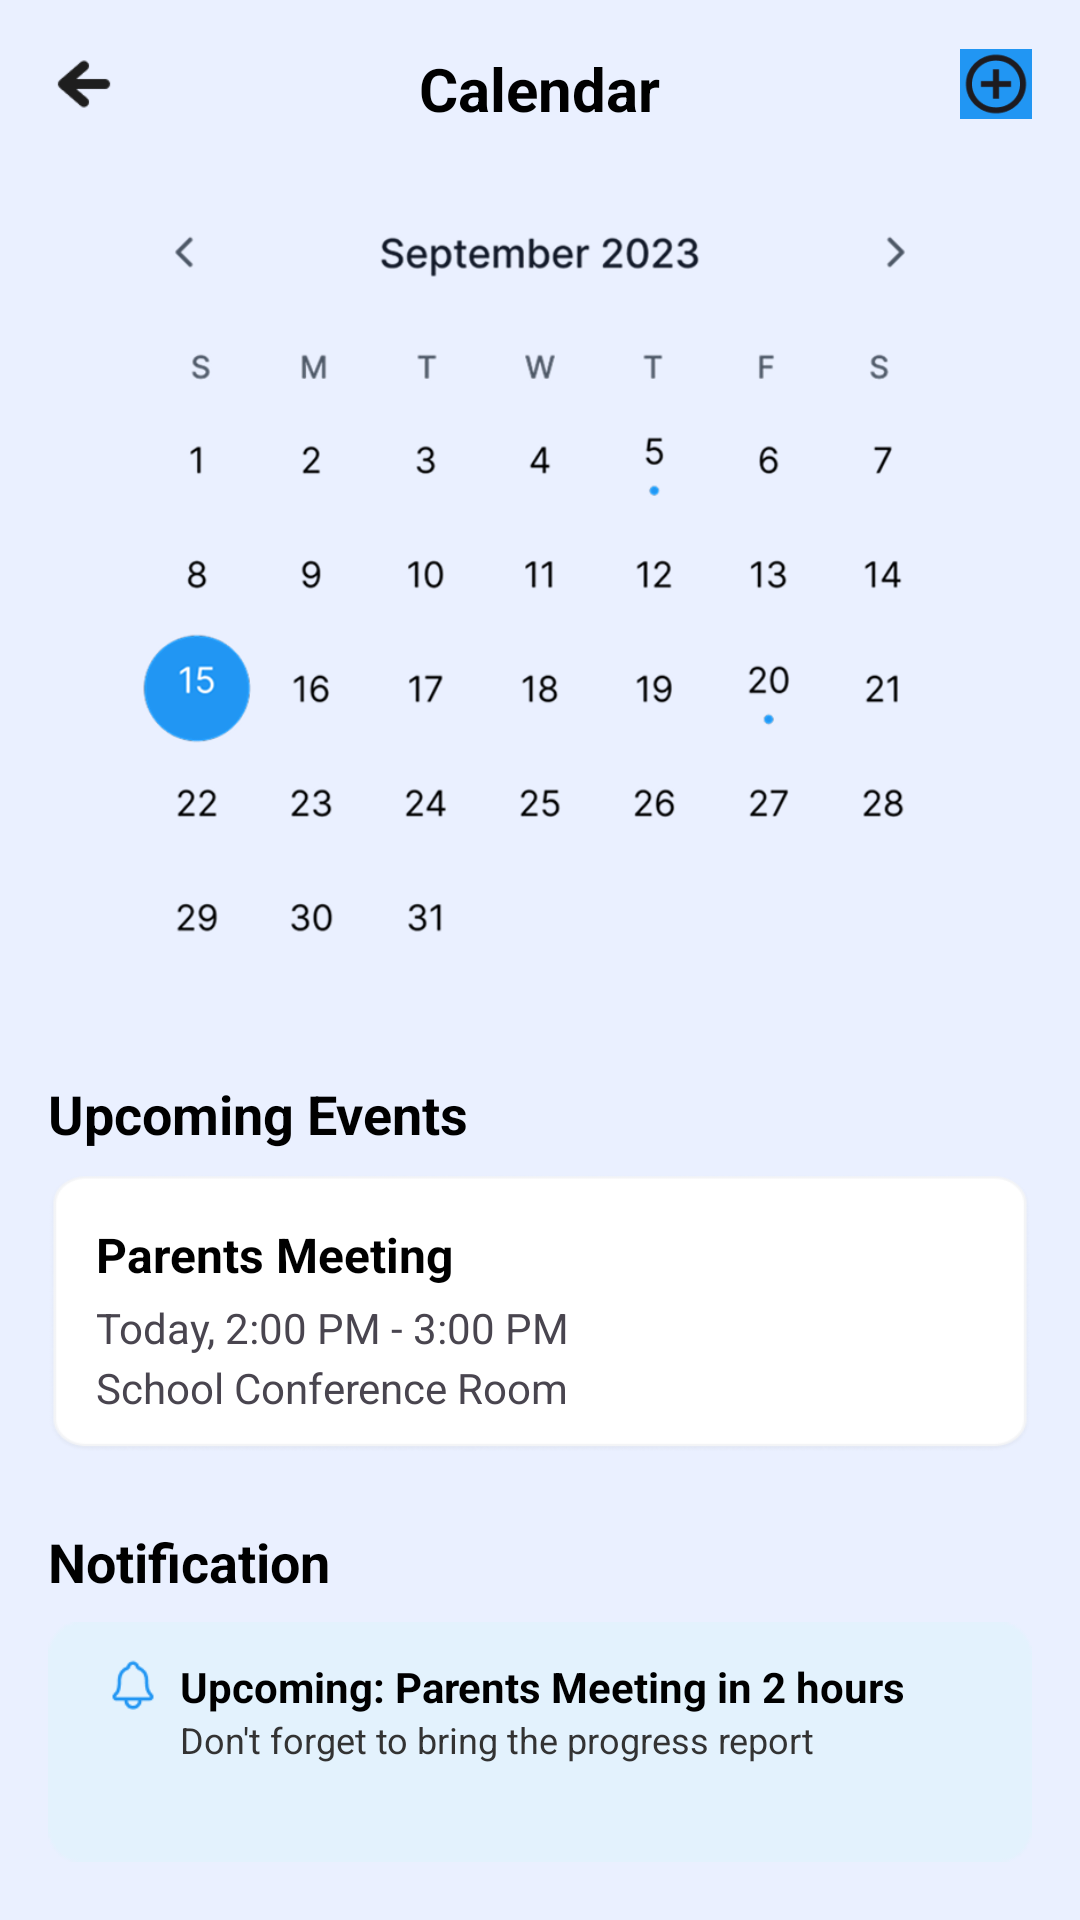

Where to tap for icons on this 1080px x 1920px app screen, as point (x, y):
bell: point (133, 1685)
left arrow: point (84, 84)
plus: point (996, 84)
